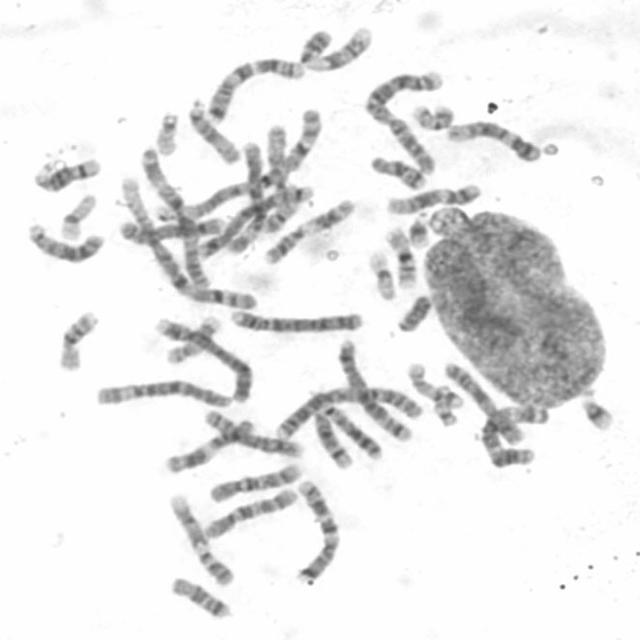A1: (120, 152, 258, 313), (149, 104, 327, 222)
A2: (359, 62, 448, 176), (268, 378, 425, 442)
A3: (132, 140, 219, 298), (474, 398, 550, 470)
B4: (149, 310, 256, 404), (222, 302, 366, 334)
B5: (191, 178, 317, 260), (332, 332, 415, 443)
C10: (196, 481, 300, 541), (202, 456, 306, 504)
C11: (258, 192, 358, 267), (157, 412, 255, 474)
C12: (439, 113, 544, 163), (380, 177, 484, 215)
C6: (88, 372, 235, 409), (227, 134, 270, 256)
C7: (200, 50, 308, 124), (288, 474, 342, 586)
C8: (198, 402, 306, 458), (113, 210, 228, 246)
C9: (162, 486, 236, 588), (294, 18, 375, 74)
D13: (308, 396, 386, 462), (20, 215, 105, 265)
D14: (307, 390, 354, 470), (26, 150, 103, 193)
D15: (182, 91, 243, 166), (264, 119, 288, 193)
E16: (51, 303, 101, 373), (378, 220, 421, 290)
E17: (401, 354, 466, 410), (160, 311, 222, 366)
E18: (164, 570, 234, 620), (363, 149, 429, 191)
F19: (53, 187, 99, 241), (361, 243, 399, 301)
F20: (405, 96, 456, 132), (262, 198, 300, 235)
G21: (574, 389, 617, 432), (402, 206, 433, 249)
G22: (149, 104, 182, 157), (427, 390, 462, 428)
X: (438, 356, 528, 447)
Y: (391, 288, 435, 333)
